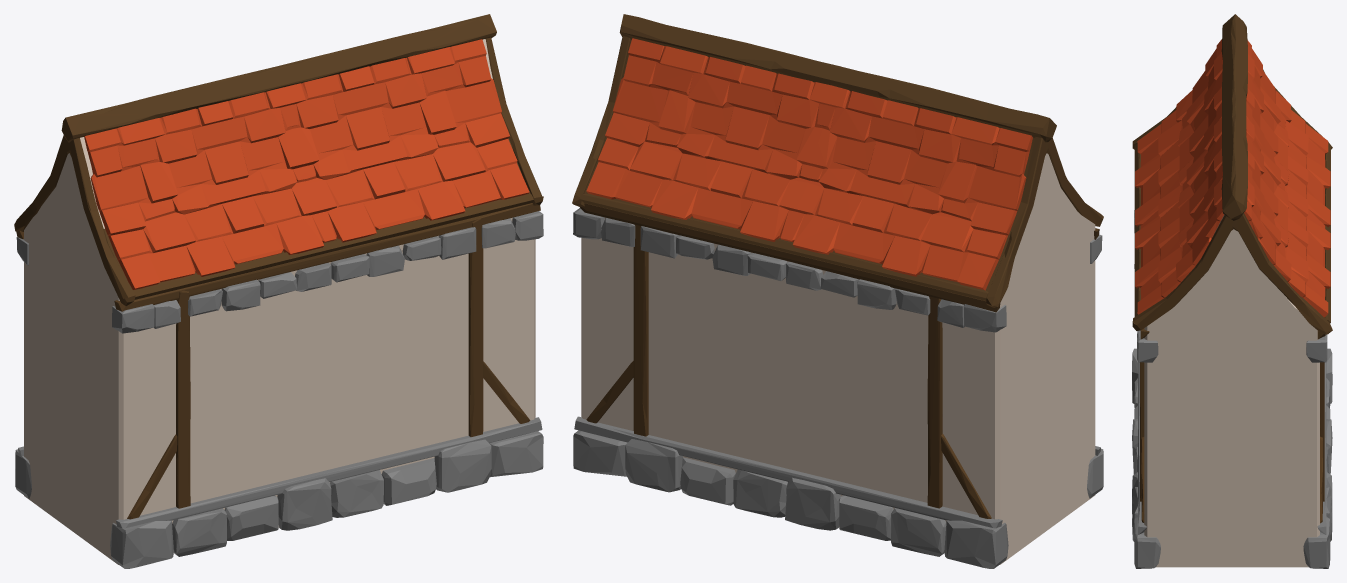
File: SM_town_walls_01.fbx
The picture shows the model from 3 angles, left to right: view 1: azimuth 30°, elevation 25°; view 2: azimuth 150°, elevation 25°; view 3: azimuth 270°, elevation 25°; orthographic projection. The views are drawn at different scales.
Visible parts, largest first — view 1: Object32395; view 2: Object32395; view 3: Object32395.
Part boxes in pixels (x1,y1,x2,y2): Object32395: (14, 14, 543, 568); Object32395: (572, 14, 1103, 568); Object32395: (1132, 14, 1332, 568).
Bounding box in the file's own units: 392 × 367 × 180.
